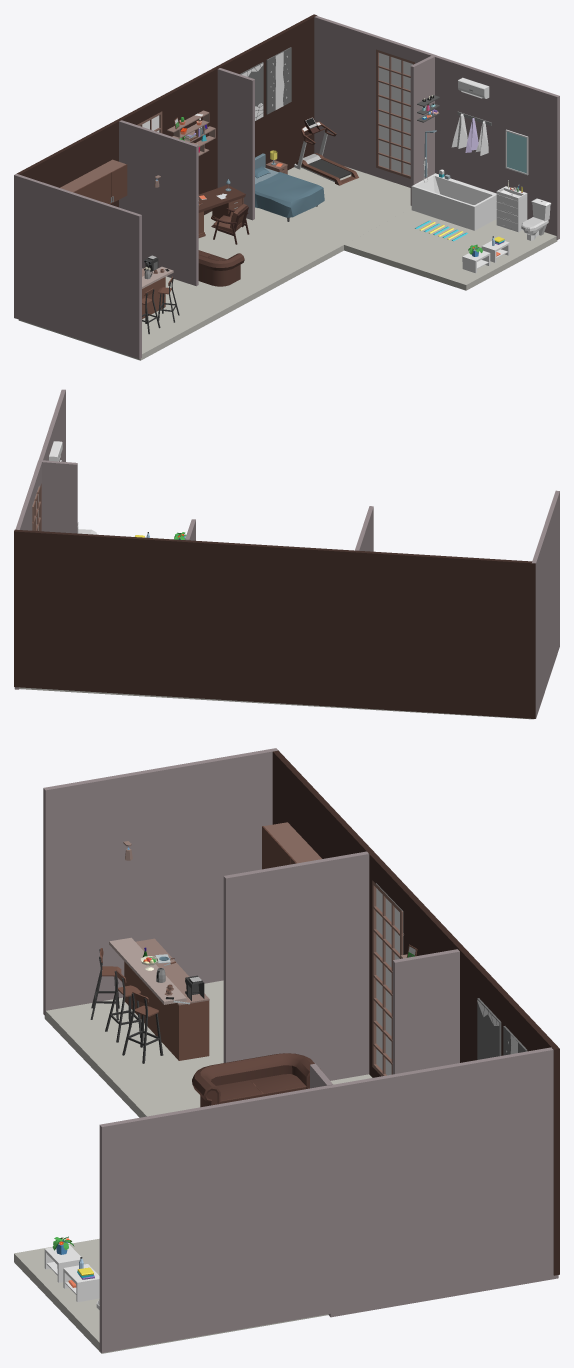
3 views of the same model, one above another, from view 1: azimuth 30°, elevation 25°; view 2: azimuth 150°, elevation 25°; view 3: azimuth 270°, elevation 25° (orthographic). The views are drawn at different scales.
Visible parts, largest first — view 1: MurCote, Meubles, Sol, MurFond; view 2: MurFond, MurCote, Sol, Meubles; view 3: MurCote, Meubles, MurFond, Sol.
Boxes of the visible parts, x1,y1,x2,y2 form: MurCote: (14,16,559,359); Meubles: (60,47,551,334); Sol: (18,166,557,360); MurFond: (17,14,317,214); MurFond: (14,529,535,718); MurCote: (14,389,559,718); Sol: (19,687,533,719); Meubles: (32,441,186,539); MurCote: (43,748,558,1352); Meubles: (44,822,527,1309); MurFond: (272,750,559,1275); Sol: (14,980,372,1353).
Size of the model in its own units: 14.69 by 4.16 by 8.95.
14 materials, 11 textured.
